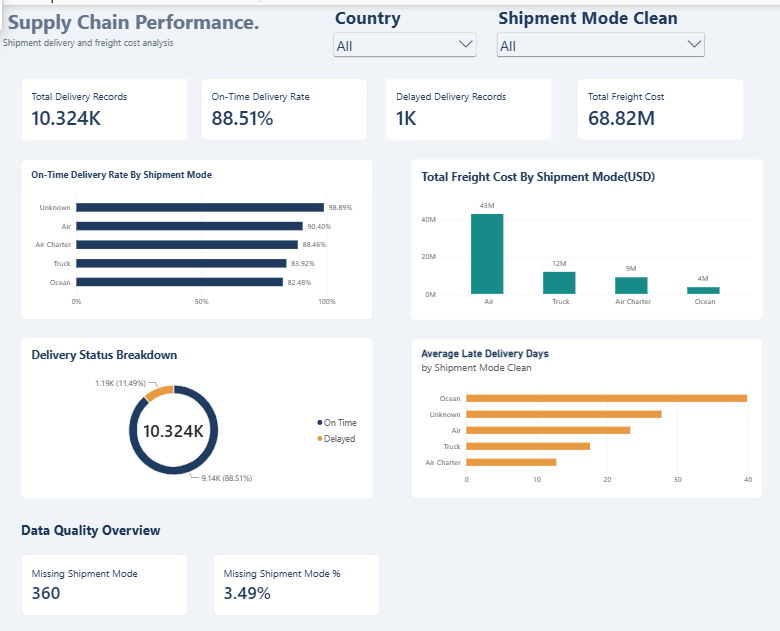

The page's visual inventory and layout, read from the dashboard file:
{"tool":"powerbi","page":{"name":"Page 1","canvas":[1280,1100],"ordinal":0},"visuals":[{"type":"cardVisual","fields":{"Data":["SCMS_Cleaned_Analysis.Total Delivery Records"]},"box":[40,120,270,100],"z":0},{"type":"cardVisual","fields":{"Data":["SCMS_Cleaned_Analysis.Delayed Delivery Records"]},"box":[630,120,270,100],"z":1000},{"type":"clusteredBarChart","title":"On-Time Delivery Rate By Shipment Mode","fields":{"Category":["SCMS_Cleaned_Analysis.Shipment Mode Clean"],"Y":["SCMS_Cleaned_Analysis.On-Time Delivery Rate"]},"box":[40,250,570,260],"z":2000},{"type":"slicer","fields":{"Values":["SCMS_Cleaned_Analysis.Country"]},"box":[540,0,242,154],"z":3000},{"type":"clusteredColumnChart","title":"Total Freight Cost By Shipment Mode(USD)","fields":{"Category":["SCMS_Cleaned_Analysis.Shipment Mode Clean"],"Y":["Sum(SCMS_Cleaned_Analysis.Freight_Cost_Numeric)"]},"box":[670,250,570,260],"z":4000},{"type":"cardVisual","fields":{"Data":["SCMS_Cleaned_Analysis.Total Freight Cost"]},"box":[940,120,270,100],"z":5000},{"type":"textbox","box":[10,5.7,670,96.7],"z":6000},{"type":"textbox","box":[1654,0,242,154],"z":7000},{"type":"textbox","box":[10,50,282.9,27.1],"z":8000},{"type":"cardVisual","fields":{"Data":["SCMS_Cleaned_Analysis.On-Time Delivery Rate"]},"box":[330,120,270,100],"z":9000},{"type":"donutChart","title":"Delivery Status Breakdown","fields":{"Category":["SCMS_Cleaned_Analysis.Delivery status"],"Y":["CountNonNull(SCMS_Cleaned_Analysis.Delivery status)"]},"box":[40,540,570,260],"z":10000},{"type":"clusteredBarChart","fields":{"Category":["SCMS_Cleaned_Analysis.Shipment Mode Clean"],"Y":["SCMS_Cleaned_Analysis.Average Late Delivery Days"]},"box":[670,540,570,260],"z":11000},{"type":"slicer","fields":{"Values":["SCMS_Cleaned_Analysis.Shipment Mode Clean"]},"box":[805,0,347.5,155],"z":12000},{"type":"cardVisual","fields":{"Data":["SCMS_Cleaned_Analysis.Missing Shipment Mode"]},"box":[40,890,270,100],"z":13000},{"type":"cardVisual","fields":{"Data":["SCMS_Cleaned_Analysis.Missing Shipment Mode %"]},"box":[350,890,270,100],"z":14000},{"type":"textbox","box":[40,817.1,631.4,72.9],"z":15000}]}

Visuals, with their boxes on the page's 1280x1100 design canvas (x1, y1, x2, y2). These are canvas units, not pixel positions in the 780x631 screenshot, which may show the page scaled, cropped or inside an application window:
cardVisual - SCMS_Cleaned_Analysis.Total Delivery Records: left=40, top=120, right=310, bottom=220
cardVisual - SCMS_Cleaned_Analysis.Delayed Delivery Records: left=630, top=120, right=900, bottom=220
"On-Time Delivery Rate By Shipment Mode" clusteredBarChart: left=40, top=250, right=610, bottom=510
slicer - SCMS_Cleaned_Analysis.Country: left=540, top=0, right=782, bottom=154
"Total Freight Cost By Shipment Mode(USD)" clusteredColumnChart: left=670, top=250, right=1240, bottom=510
cardVisual - SCMS_Cleaned_Analysis.Total Freight Cost: left=940, top=120, right=1210, bottom=220
textbox: left=10, top=6, right=680, bottom=102
textbox: left=1654, top=0, right=1896, bottom=154
textbox: left=10, top=50, right=293, bottom=77
cardVisual - SCMS_Cleaned_Analysis.On-Time Delivery Rate: left=330, top=120, right=600, bottom=220
"Delivery Status Breakdown" donutChart: left=40, top=540, right=610, bottom=800
clusteredBarChart - SCMS_Cleaned_Analysis.Shipment Mode Clean x SCMS_Cleaned_Analysis.Average Late Delivery Days: left=670, top=540, right=1240, bottom=800
slicer - SCMS_Cleaned_Analysis.Shipment Mode Clean: left=805, top=0, right=1152, bottom=155
cardVisual - SCMS_Cleaned_Analysis.Missing Shipment Mode: left=40, top=890, right=310, bottom=990
cardVisual - SCMS_Cleaned_Analysis.Missing Shipment Mode %: left=350, top=890, right=620, bottom=990
textbox: left=40, top=817, right=671, bottom=890
